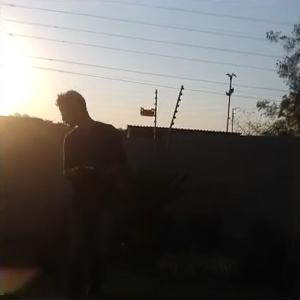follow: (53, 87, 132, 299)
